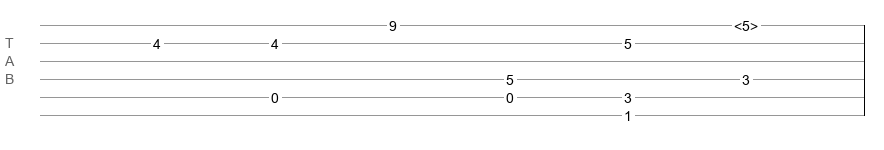0: (271, 90, 279, 100), (506, 90, 514, 100)
1: (624, 108, 632, 118)
3: (624, 90, 632, 100), (742, 72, 750, 82)
4: (153, 36, 161, 46), (271, 36, 279, 46)
5: (506, 72, 514, 82), (624, 36, 632, 46)
9: (389, 18, 397, 28)
harmonic: (734, 18, 758, 28)
